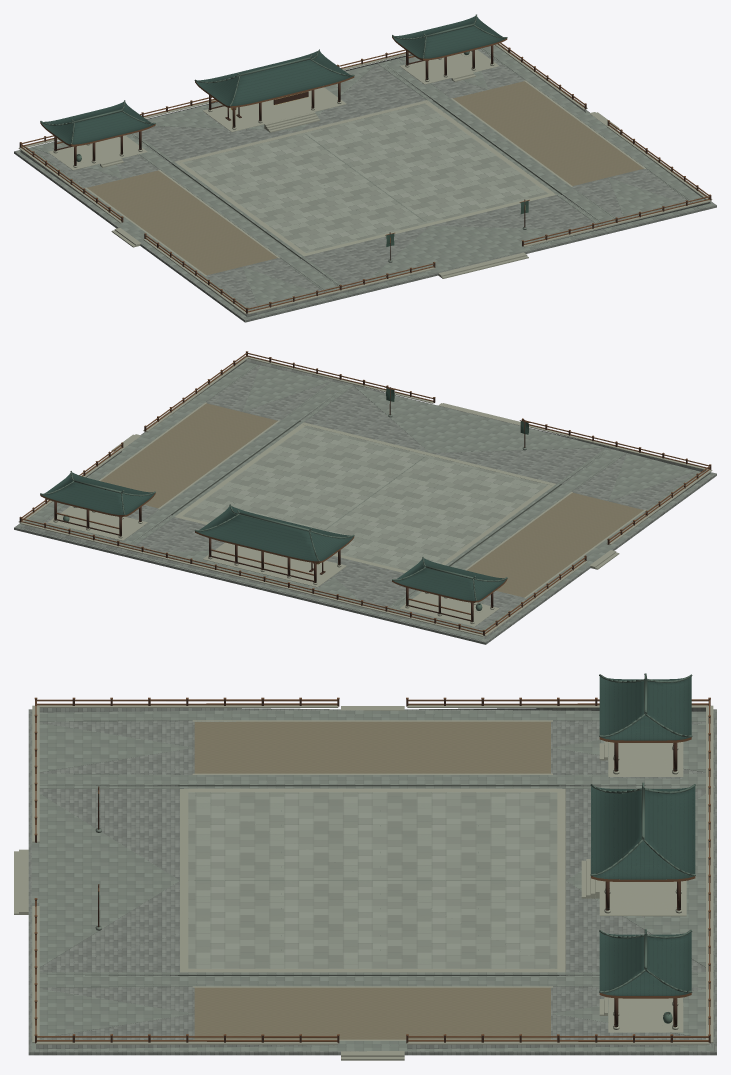
The model's file is martial_training_ground_lod.glb.
3 views of the same model, one above another, from view 1: azimuth 30°, elevation 25°; view 2: azimuth 150°, elevation 25°; view 3: azimuth 270°, elevation 25° (orthographic). The views are drawn at different scales.
Parts seen in each view (by area): view 1: LOD_CourtPaving, LOD_Paving, LOD_Ashlar, LOD_PackedEarth, LOD_Coping, LOD_JadeTile, LOD_CarvedWood, LOD_Timber, LOD_TileEdge, LOD_Joint; view 2: LOD_CourtPaving, LOD_Paving, LOD_Ashlar, LOD_PackedEarth, LOD_Coping, LOD_JadeTile, LOD_CarvedWood, LOD_Timber, LOD_TileEdge, LOD_Joint; view 3: LOD_CourtPaving, LOD_Paving, LOD_Ashlar, LOD_PackedEarth, LOD_Coping, LOD_JadeTile, LOD_CarvedWood, LOD_TileEdge, LOD_Timber, LOD_Joint.
Part boxes in pixels (x1,y1,x2,y2): LOD_CourtPaving: (182, 103, 548, 252); LOD_Paving: (17, 45, 713, 318); LOD_Ashlar: (14, 49, 716, 322); LOD_PackedEarth: (87, 81, 643, 275); LOD_Coping: (18, 43, 712, 314); LOD_JadeTile: (41, 16, 506, 144); LOD_CarvedWood: (19, 36, 711, 312); LOD_Timber: (19, 45, 711, 313); LOD_TileEdge: (40, 14, 507, 144); LOD_Joint: (172, 100, 562, 258); LOD_CourtPaving: (182, 425, 548, 570); LOD_Paving: (17, 361, 713, 641); LOD_Ashlar: (14, 359, 716, 644); LOD_PackedEarth: (100, 403, 643, 597); LOD_Coping: (18, 356, 712, 636); LOD_JadeTile: (41, 472, 506, 600); LOD_CarvedWood: (19, 351, 711, 634); LOD_Timber: (19, 352, 711, 635); LOD_TileEdge: (40, 471, 507, 600); LOD_Joint: (171, 420, 561, 566); LOD_CourtPaving: (188, 792, 557, 968); LOD_Paving: (31, 710, 713, 1050); LOD_Ashlar: (28, 708, 716, 1055); LOD_PackedEarth: (194, 721, 550, 1039); LOD_Coping: (14, 705, 713, 1060); LOD_JadeTile: (591, 676, 695, 995); LOD_CarvedWood: (34, 697, 710, 1041); LOD_TileEdge: (590, 673, 695, 992); LOD_Timber: (35, 699, 710, 1043); LOD_Joint: (178, 785, 559, 975).
Bounding box in the file's own units: 67.99 × 6.73 × 57.2.
16 materials, 10 textured.
